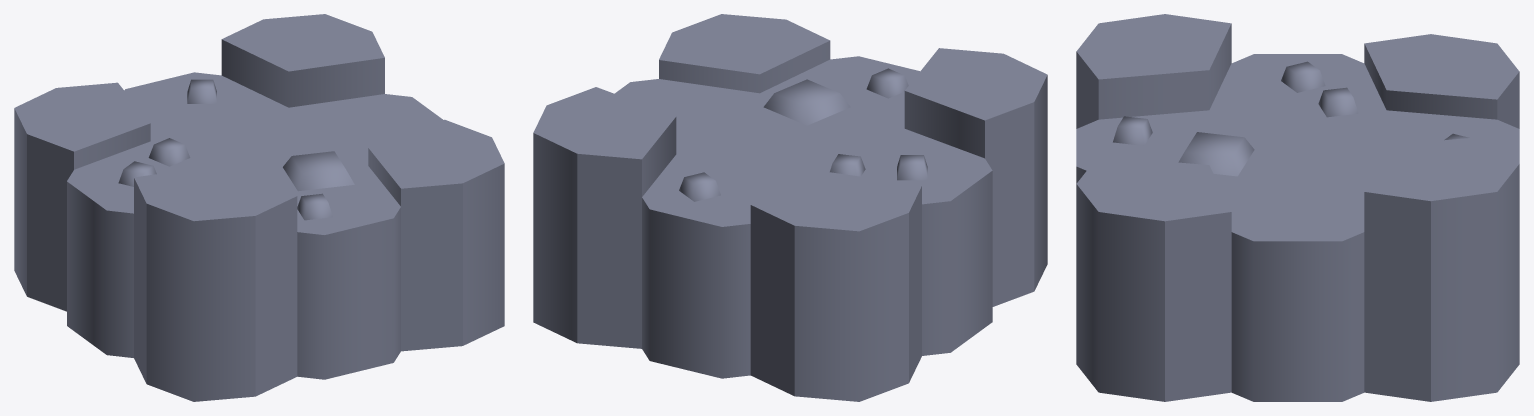
Rendered from rocks.dae.
3 views of the same model, side by side, from view 1: azimuth 30°, elevation 25°; view 2: azimuth 150°, elevation 25°; view 3: azimuth 270°, elevation 25° (orthographic). The views are drawn at different scales.
Visible parts, largest first — view 1: rocks; view 2: rocks; view 3: rocks.
Boxes of the visible parts, bbox=[...] form: rocks: bbox=[14, 14, 504, 401]; rocks: bbox=[533, 14, 1047, 401]; rocks: bbox=[1076, 14, 1519, 401].
Bounding box in the file's own units: 1 × 0.5 × 1.
